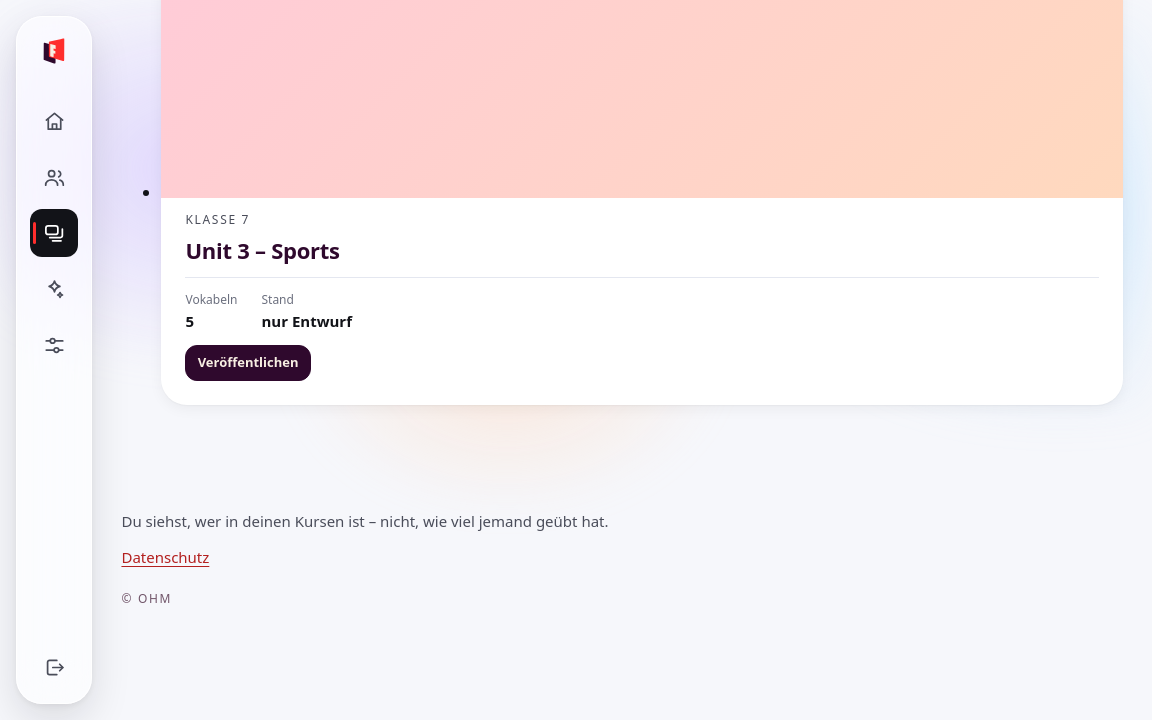
Test: die Materialseite › veröffentlicht und sagt, welche Fassung daraus wurde
(page scrolled)
Step 1. Click the button "Veröffentlichen" → {"x": 248, "y": 363}, box [185, 345, 311, 381]
(page scrolled)
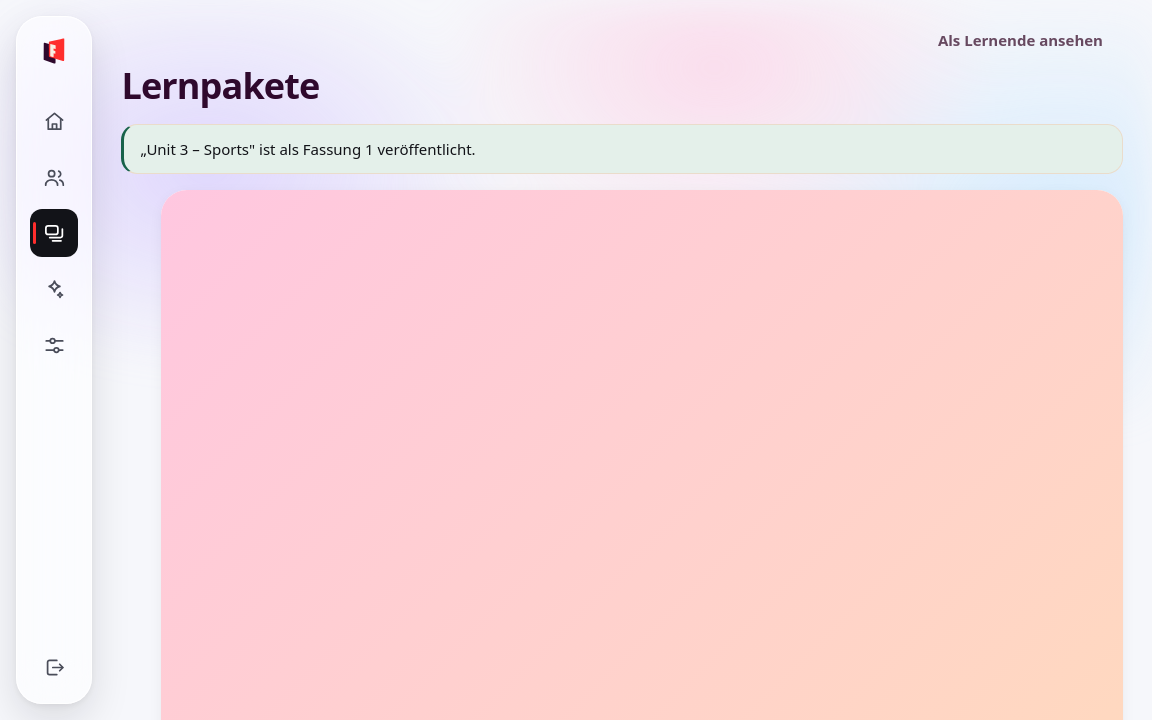
Expected: the text "„Unit 3 – Sports\" ist als Fassung 1 veröffentlicht." is shown, [121, 124, 1122, 174]
Expected: the text "„Unit 3 – Sports\" ist als Fassung 1 veröffentlicht." is shown 2 times
